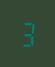three: (19, 20, 34, 47)
